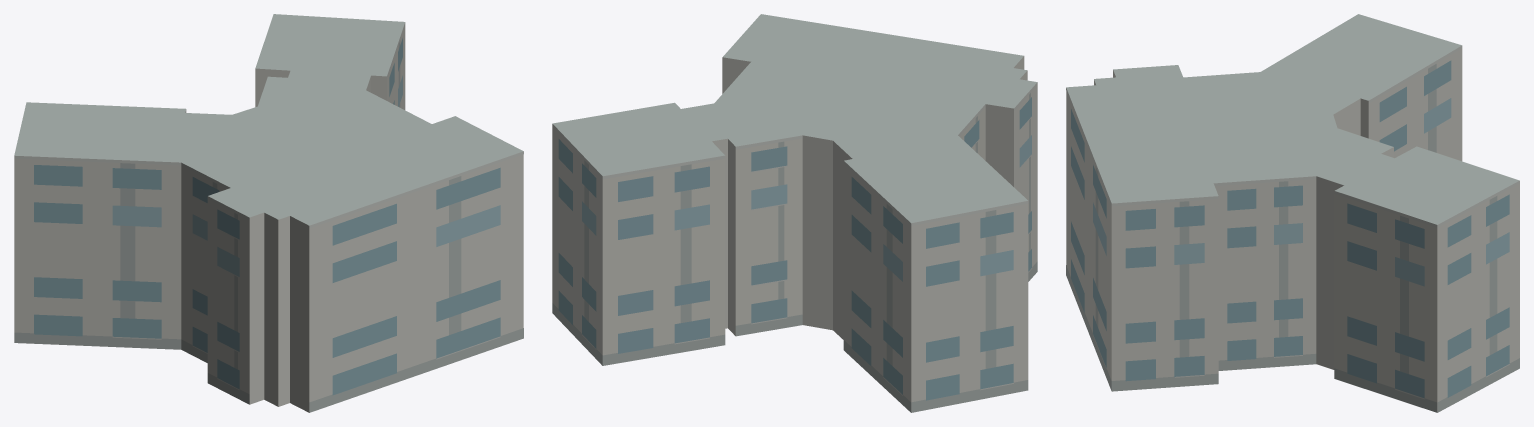
The model's file is residential-1115bdf8-4316-4d65-981d-821bd6cf3ca7.glb.
The picture shows the model from 3 angles, left to right: view 1: azimuth 30°, elevation 25°; view 2: azimuth 150°, elevation 25°; view 3: azimuth 270°, elevation 25°; orthographic projection.
Parts seen in each view (by area): view 1: residential-1115bdf8-4316-4d65-981d-821bd6cf3ca7.tmp; view 2: residential-1115bdf8-4316-4d65-981d-821bd6cf3ca7.tmp; view 3: residential-1115bdf8-4316-4d65-981d-821bd6cf3ca7.tmp.
Boxes of the visible parts, bbox=[...] form: residential-1115bdf8-4316-4d65-981d-821bd6cf3ca7.tmp: bbox=[14, 14, 523, 412]; residential-1115bdf8-4316-4d65-981d-821bd6cf3ca7.tmp: bbox=[552, 14, 1037, 412]; residential-1115bdf8-4316-4d65-981d-821bd6cf3ca7.tmp: bbox=[1066, 14, 1519, 412].
Size of the model in its own units: 36.7 by 15.25 by 33.36.
